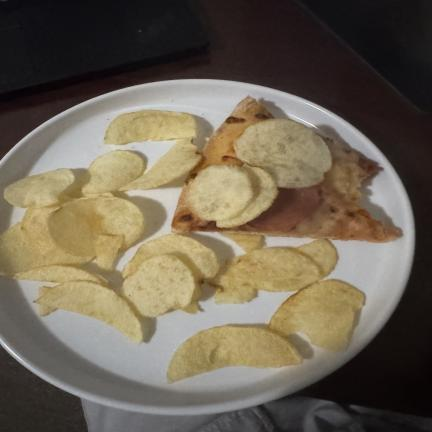chips: (209, 239, 337, 304), (167, 325, 301, 382), (269, 280, 364, 350), (235, 119, 331, 188), (35, 282, 142, 343), (48, 197, 144, 256), (122, 255, 200, 316), (0, 224, 92, 275), (21, 206, 93, 268), (123, 234, 219, 279), (120, 139, 201, 190), (228, 247, 321, 291), (217, 165, 277, 227), (188, 165, 253, 220), (104, 110, 197, 144), (83, 150, 145, 195), (91, 198, 144, 250), (48, 199, 95, 256), (4, 169, 74, 207), (209, 257, 257, 304), (21, 206, 59, 253), (0, 223, 34, 275), (296, 239, 338, 278), (14, 265, 105, 283), (214, 279, 257, 304), (95, 235, 123, 271), (221, 233, 264, 252), (39, 305, 56, 316)
pizza: (172, 97, 401, 242)
plate: (0, 80, 414, 414)
